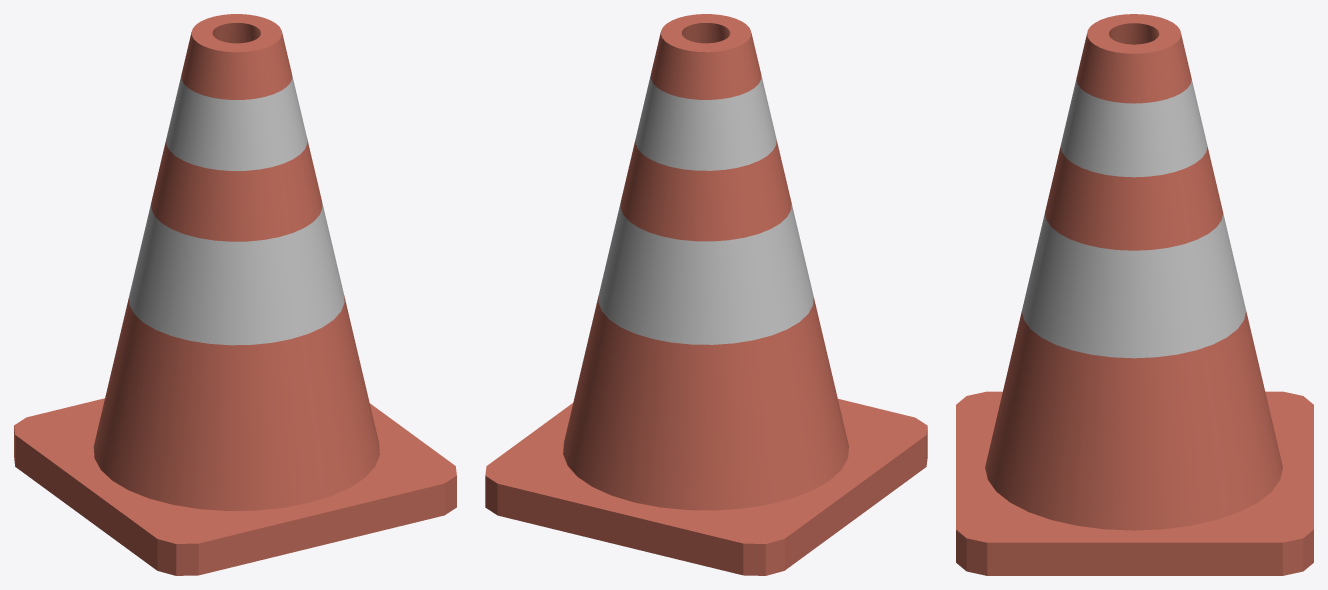
File: Traffic Cone.fbx
3 renders of one model, left to right at view 1: azimuth 30°, elevation 25°; view 2: azimuth 150°, elevation 25°; view 3: azimuth 270°, elevation 25°, orthographic. The views are drawn at different scales.
Visible parts, largest first — view 1: Traffic Cone; view 2: Traffic Cone; view 3: Traffic Cone.
Boxes of the visible parts, left/top/right/bottom form: Traffic Cone: left=14, top=14, right=456, bottom=575; Traffic Cone: left=485, top=14, right=927, bottom=575; Traffic Cone: left=956, top=14, right=1313, bottom=575.
Size of the model in its own units: 99.75 by 144 by 99.75.
